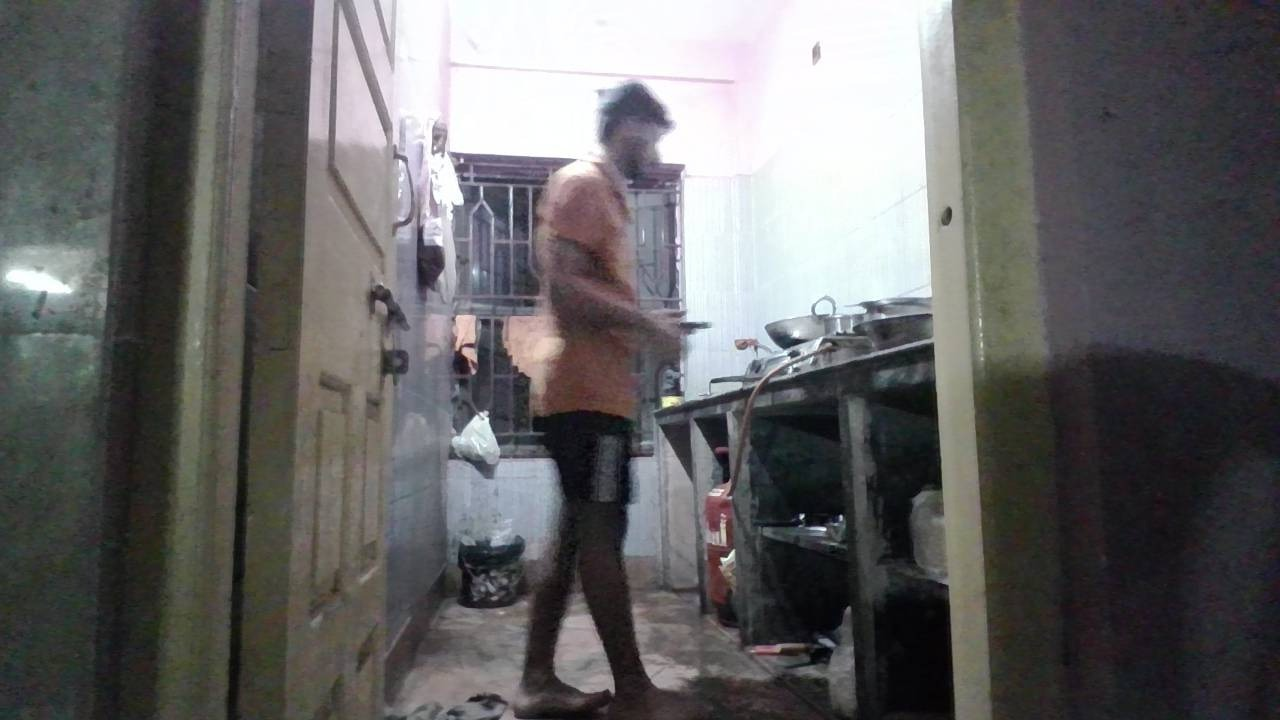red_box: (548, 375, 629, 417)
